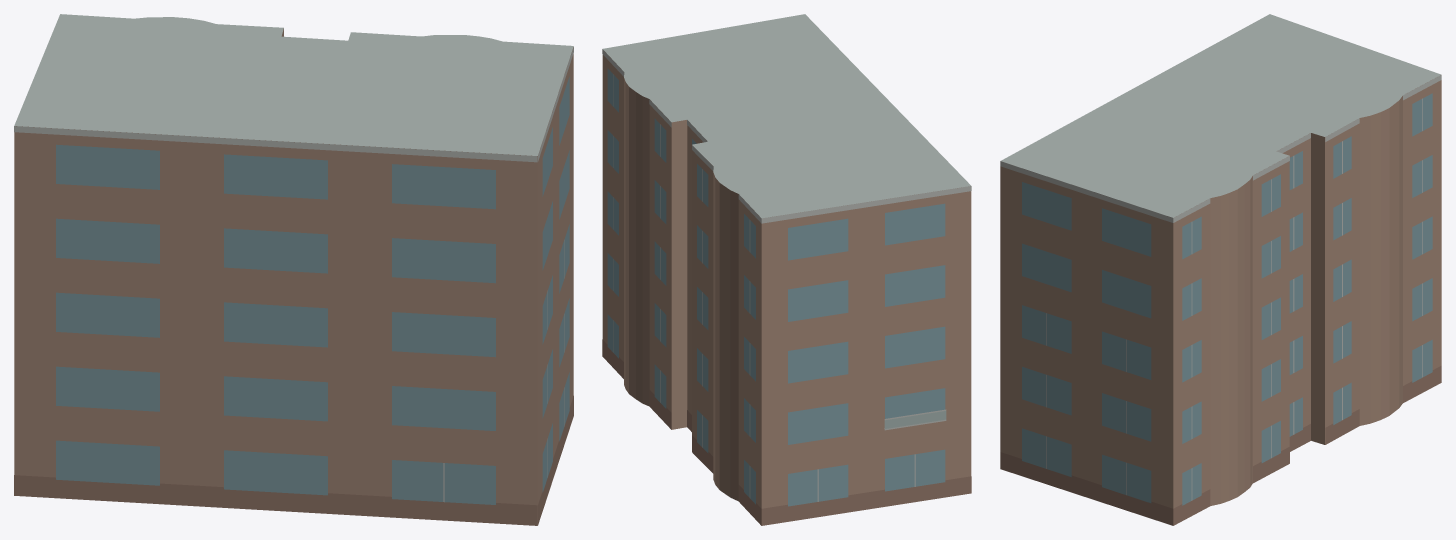
The model's file is survey-upis-32808252.glb.
3 views of the same model, side by side, from view 1: azimuth 30°, elevation 25°; view 2: azimuth 150°, elevation 25°; view 3: azimuth 270°, elevation 25° (orthographic). The views are drawn at different scales.
Visible parts, largest first — view 1: survey-upis-32808252.tmp; view 2: survey-upis-32808252.tmp; view 3: survey-upis-32808252.tmp.
Part boxes in pixels (x1,y1,x2,y2): survey-upis-32808252.tmp: (14, 14, 573, 525); survey-upis-32808252.tmp: (602, 14, 971, 525); survey-upis-32808252.tmp: (1000, 14, 1441, 525).
Size of the model in its own units: 20.46 by 14.4 by 18.71.
